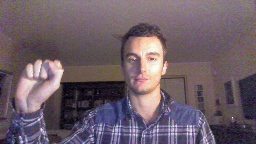Pugno: (11, 57, 65, 114)
